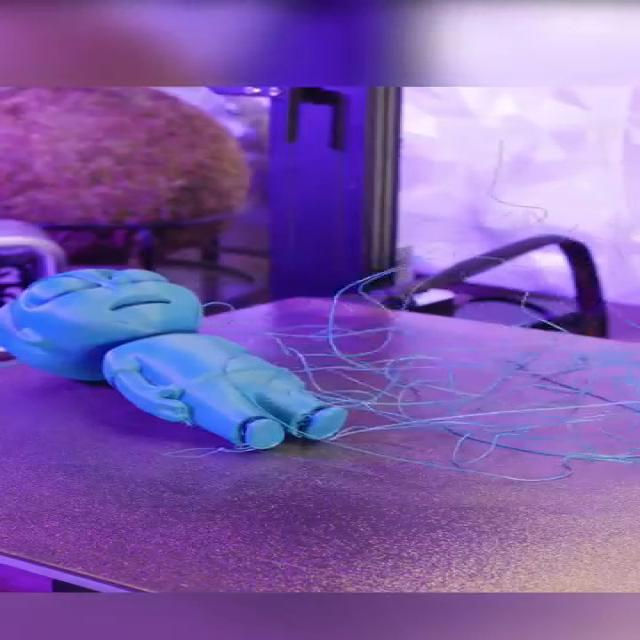spaghetti: (204, 262, 640, 486)
